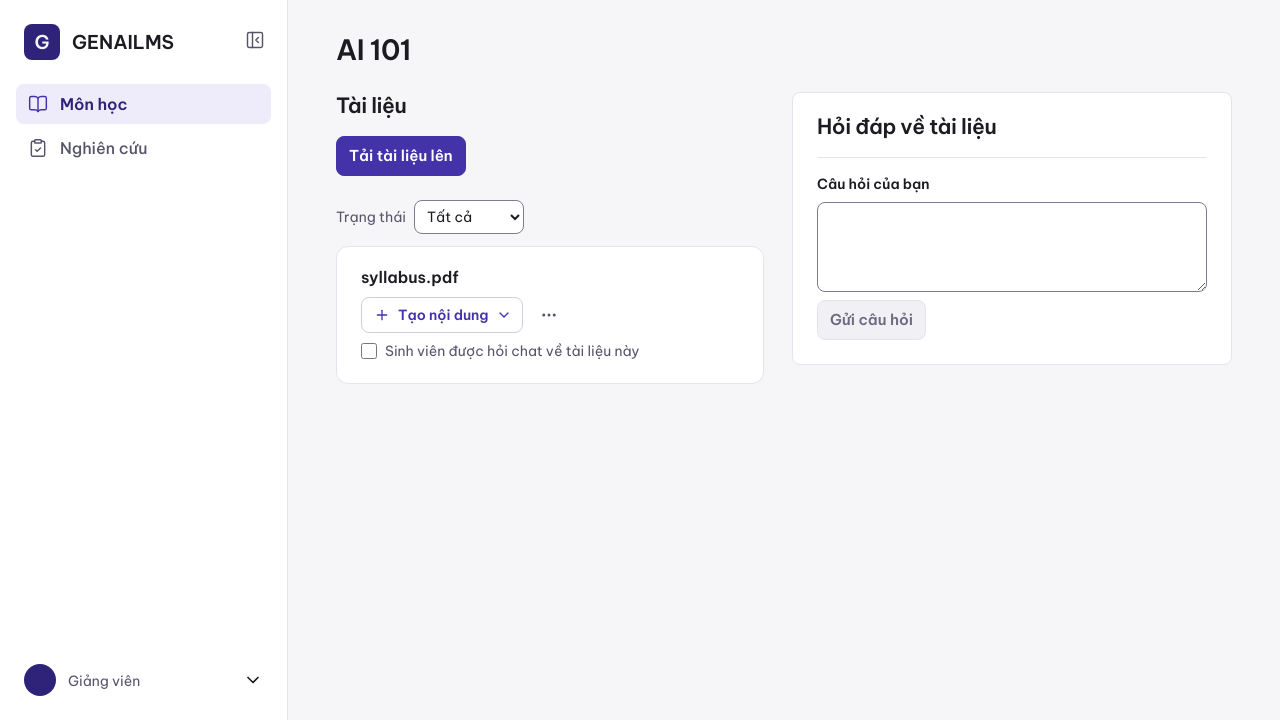
Scenario: CourseDetailPage - delete document › opens a document to learners from its row, and puts the box back when the server refuses
Click the checkbox labelled "Sinh viên được hỏi chat về tài liệu này".
click(369, 351)  # box [361,343,377,359]
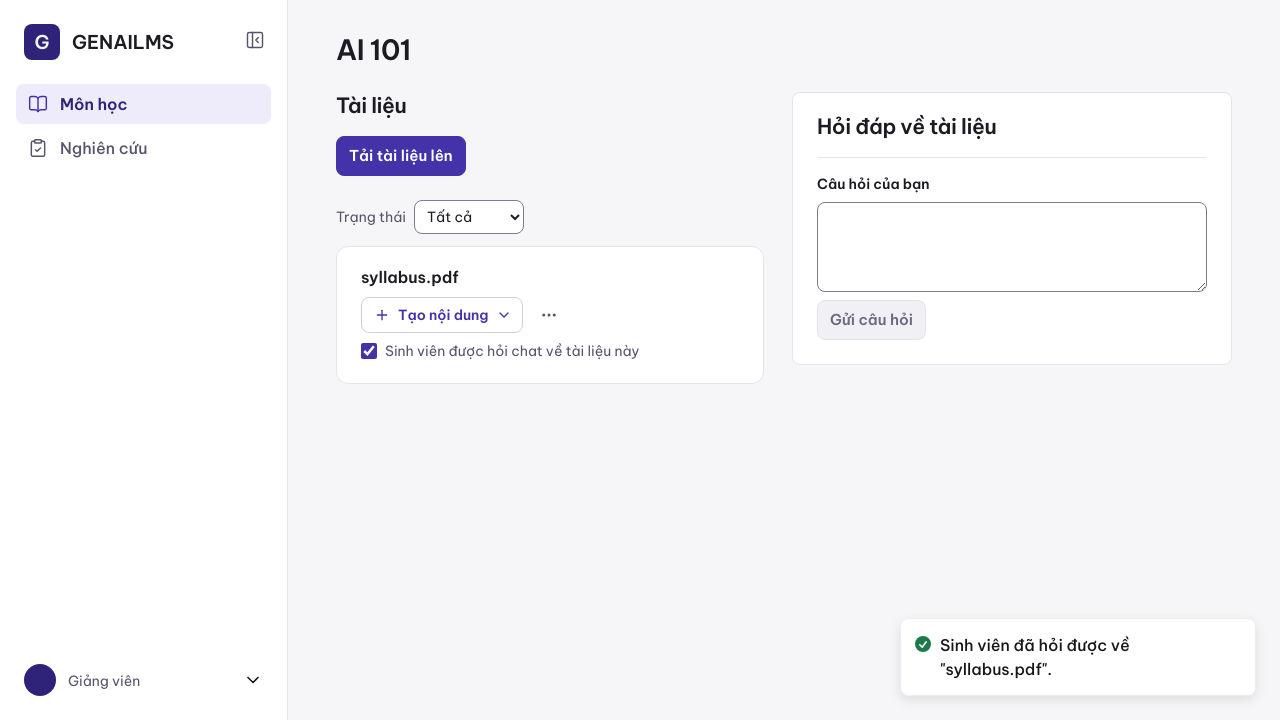
Check: the checkbox labelled "Sinh viên được hỏi chat về tài liệu này" is checked
Click the checkbox labelled "Sinh viên được hỏi chat về tài liệu này".
click(369, 351)  # box [361,343,377,359]
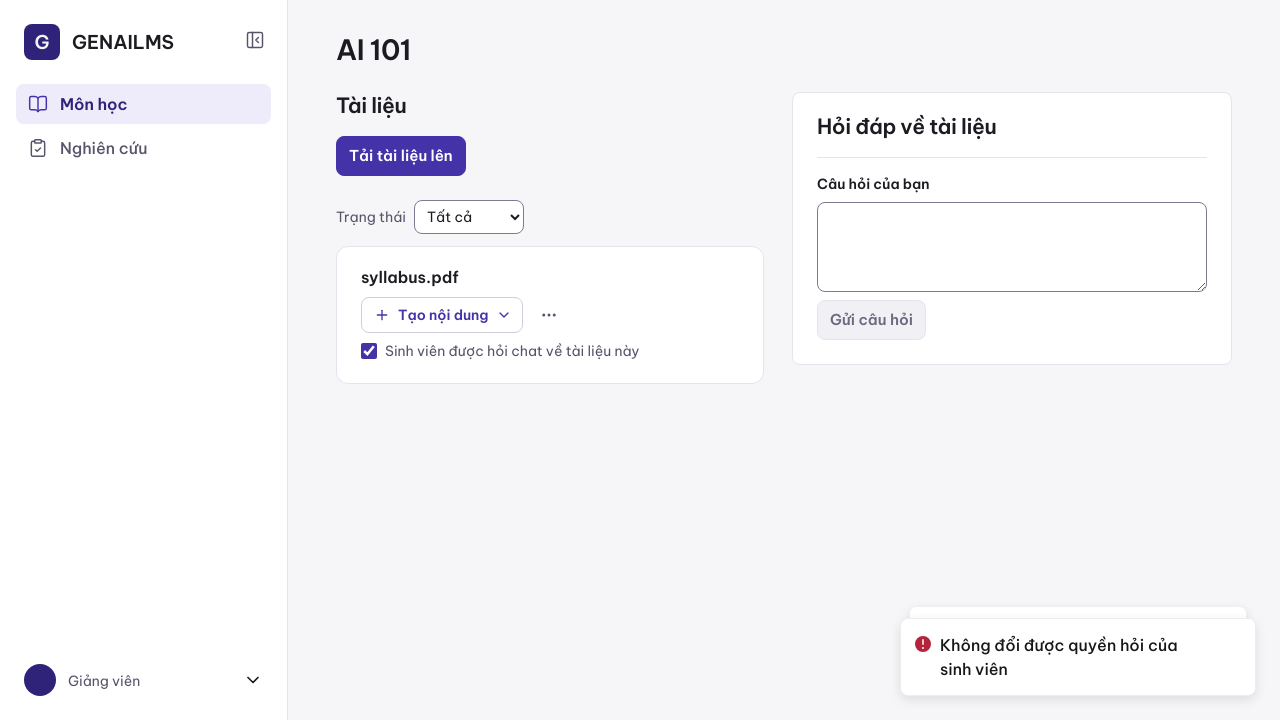
Check: the checkbox labelled "Sinh viên được hỏi chat về tài liệu này" is checked, box [361,343,377,359]
Check: the text "Không đổi được quyền hỏi của sinh viên" is shown, box [940,633,1211,681]
